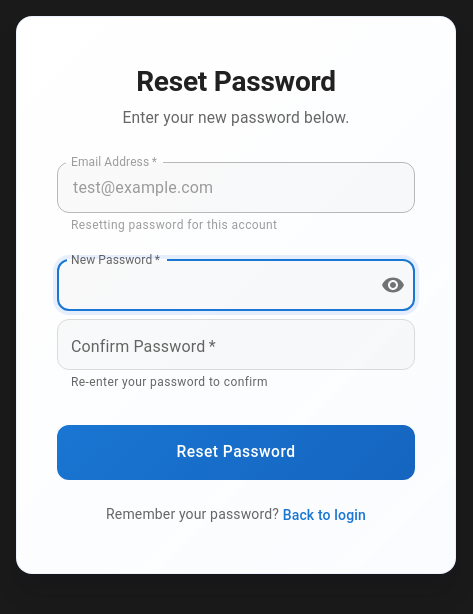
PasswordResetConfirmForm › form validation › should show error when password is empty
Leave new password empty, fill confirm
Step 1. Type "SomePassword1!" into the password field labelled "Confirm Password *" → (236, 344), box [57, 319, 415, 370]
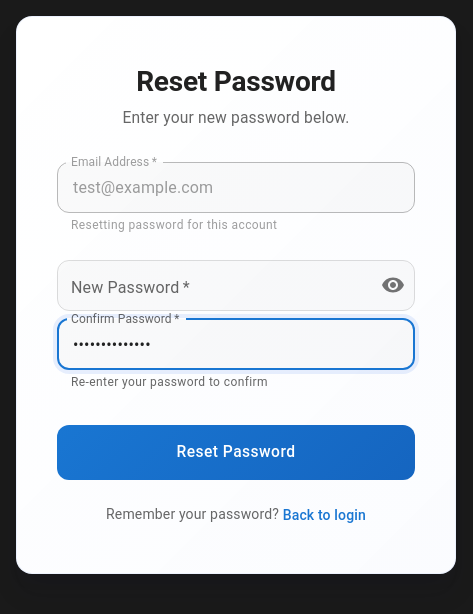
Step 2. Click the button "Reset Password" → (236, 452), box [57, 425, 415, 480]
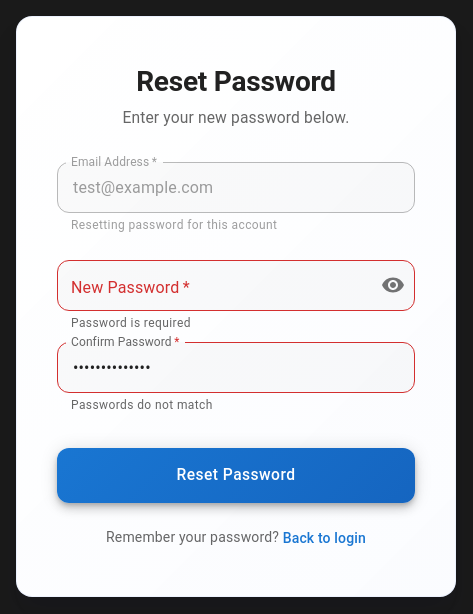
Now the text "Password is required" is shown, box [71, 316, 191, 330]
